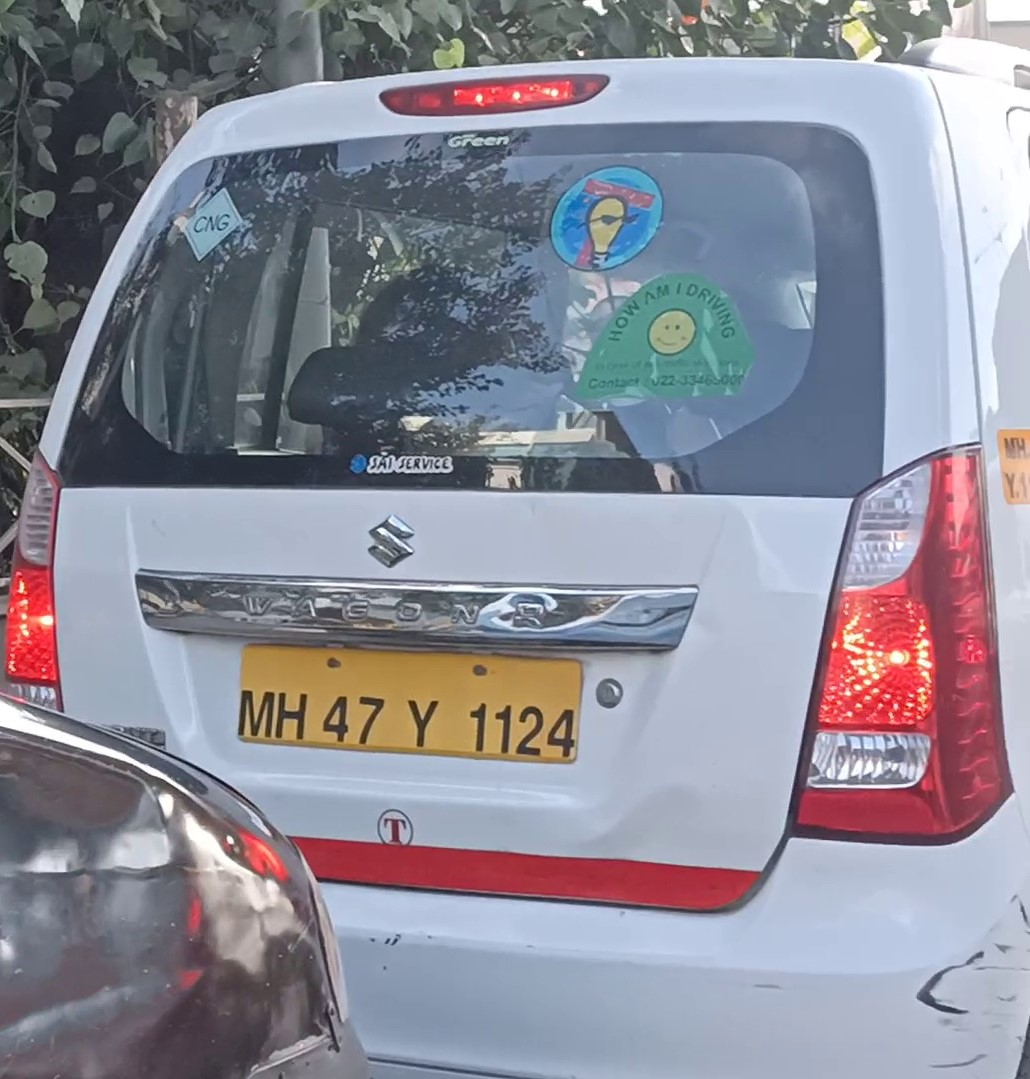MH47Y1124: (240, 642, 584, 765)
